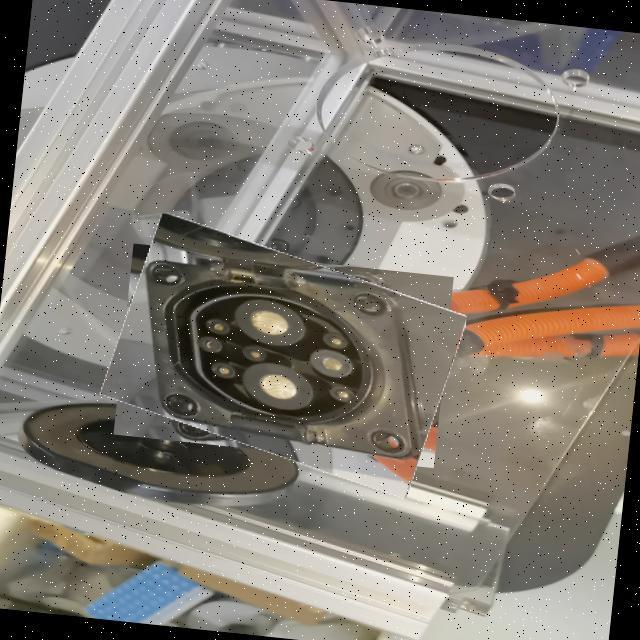GB-T: (149, 252, 437, 437)
